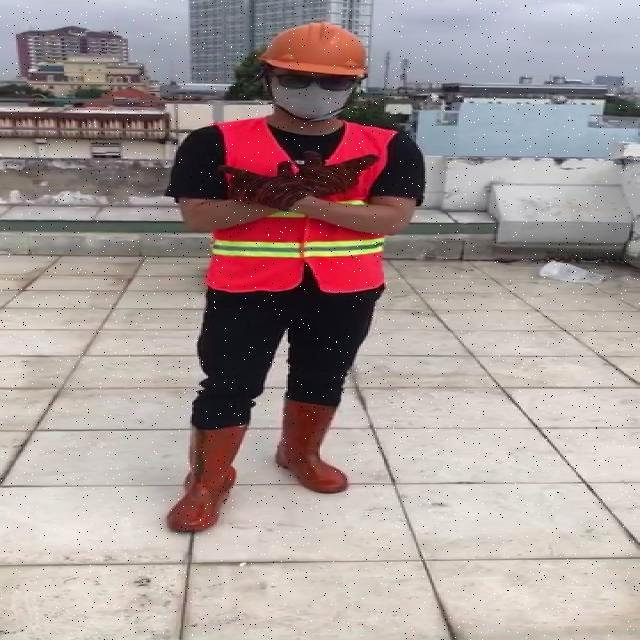Hard_hat: (253, 14, 373, 83)
Vest: (207, 118, 391, 301)
